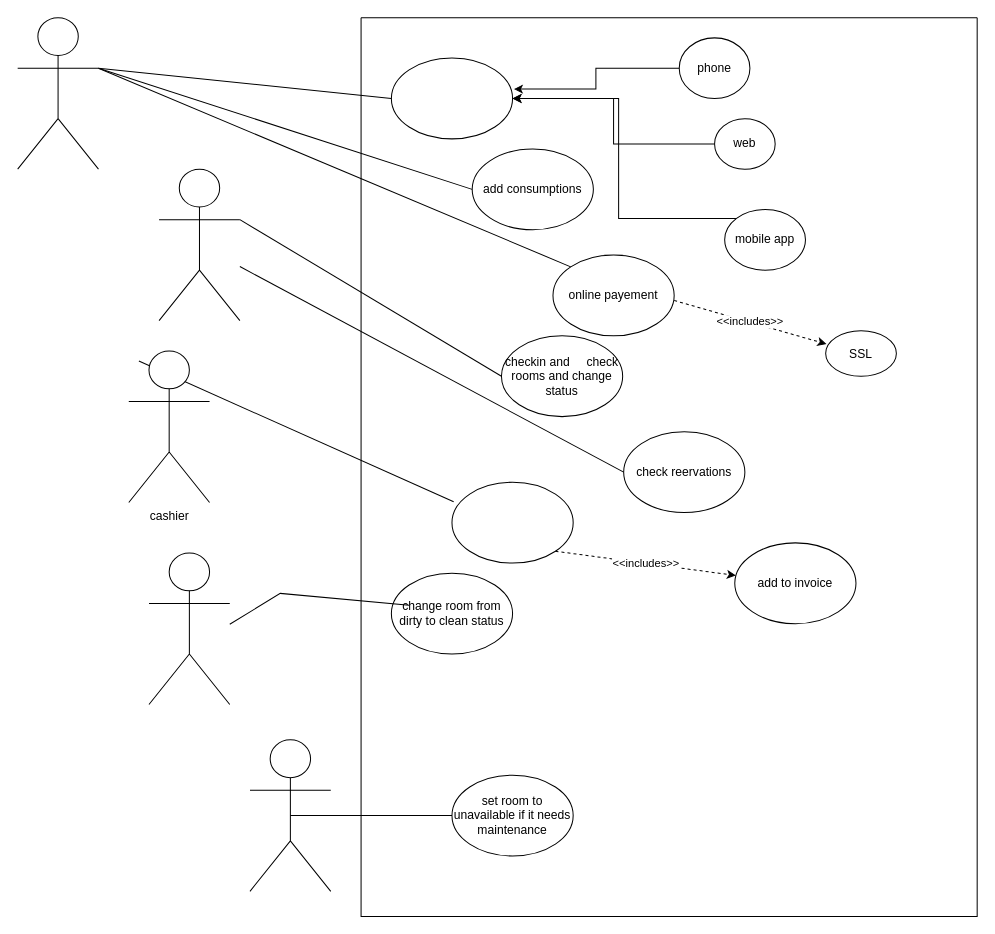
Some shapes in this 995 by 934 pixel diagram are drawn without their labels. Each missing label, with the centre of its shape:
add consulmptions: (512,522)
Cleaning staff: (189,628)
hotel client: (57,93)
receptionist: (199,244)
reservation: (451,98)
the floor manager: (290,815)
